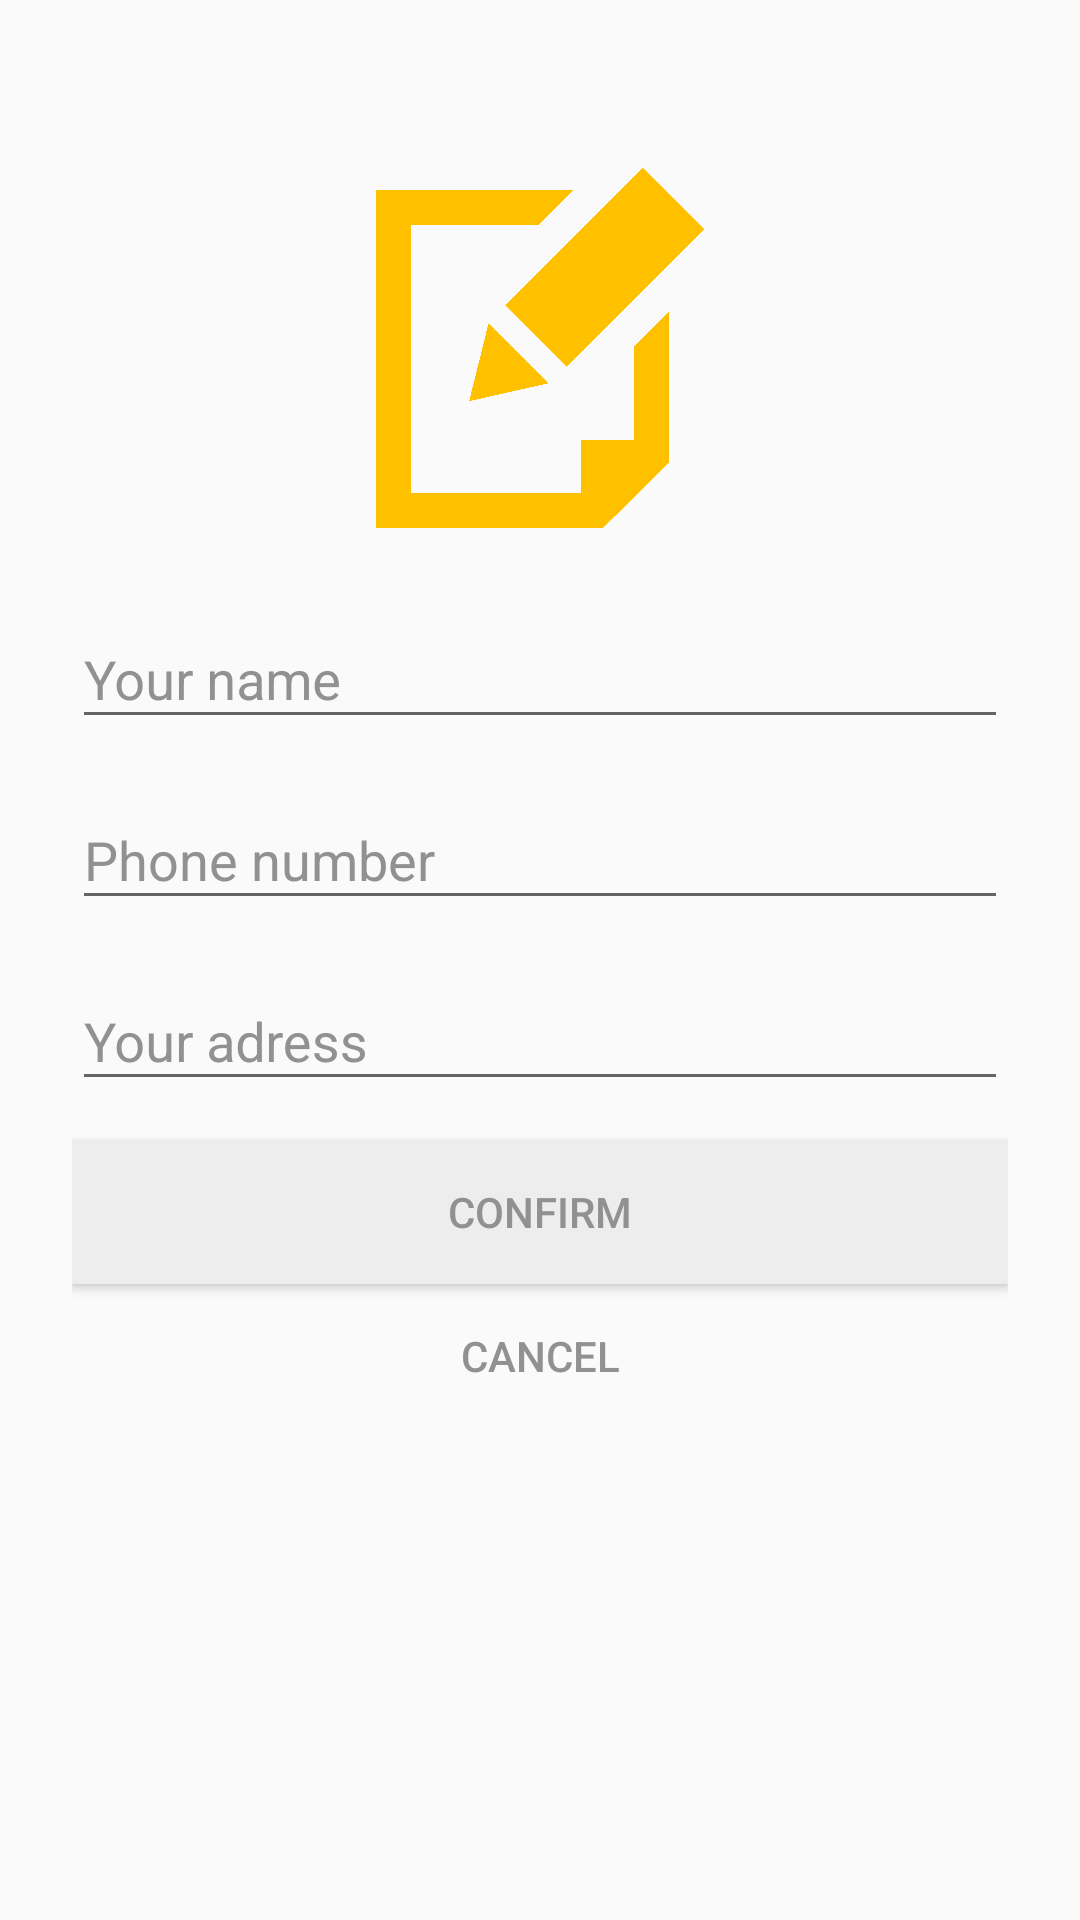

Icon click points for this 1080 x 1920 phone screenshot, format (x,y):
edit: (540,348)
